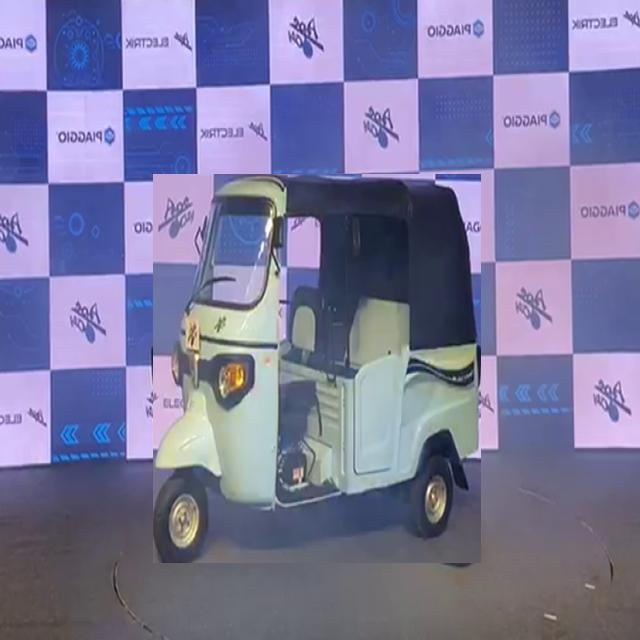autorickshaw: (153, 175, 480, 563)
